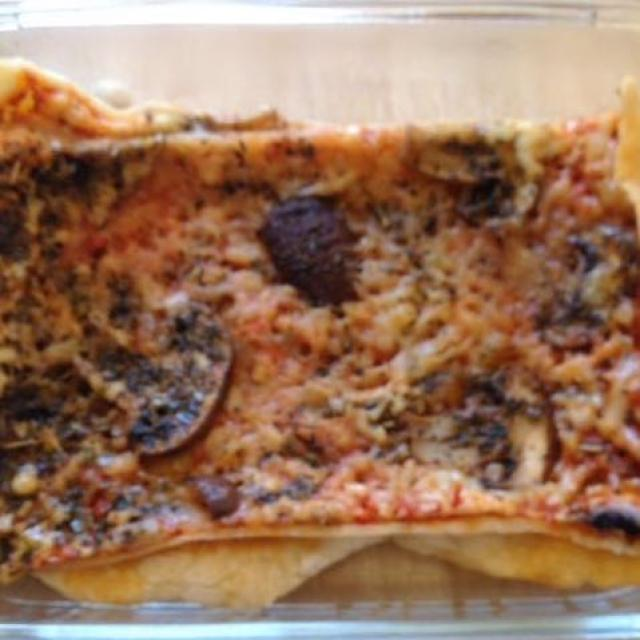pizza: (9, 71, 633, 609)
